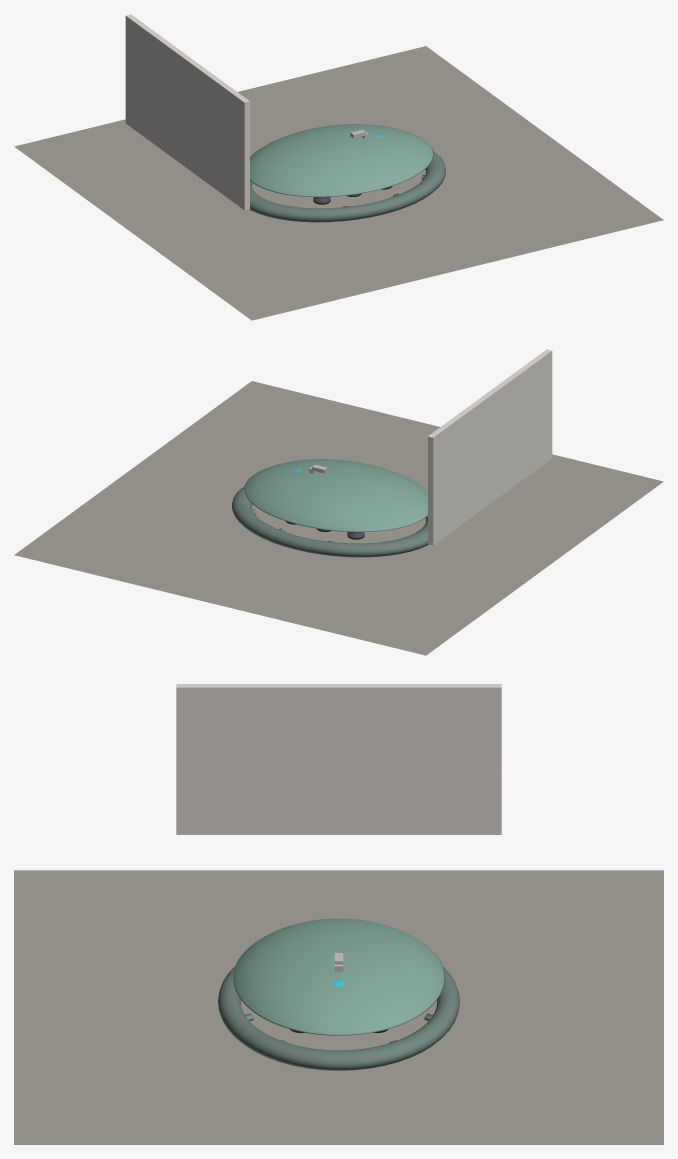
File: scute_swarm.glb
3 renders of one model, top to bottom at view 1: azimuth 30°, elevation 25°; view 2: azimuth 150°, elevation 25°; view 3: azimuth 270°, elevation 25°, orthographic. The views are drawn at different scales.
Visible parts, largest first — view 1: ArenaFloor, ClimbWall, Shell, SoftRim; view 2: ArenaFloor, ClimbWall, Shell, SoftRim; view 3: ArenaFloor, ClimbWall, Shell, SoftRim.
Boxes of the visible parts, <box> form: ArenaFloor: <box>14,46,663,320</box>; ClimbWall: <box>125,14,249,210</box>; Shell: <box>250,124,433,196</box>; SoftRim: <box>249,151,446,222</box>; ArenaFloor: <box>14,381,663,655</box>; ClimbWall: <box>428,349,552,545</box>; Shell: <box>244,459,427,531</box>; SoftRim: <box>231,486,428,557</box>; ArenaFloor: <box>14,870,663,1144</box>; ClimbWall: <box>176,684,501,834</box>; Shell: <box>233,918,444,1035</box>; SoftRim: <box>218,966,459,1070</box>.
Bounding box in the file's own units: 6 × 2.27 × 6.
